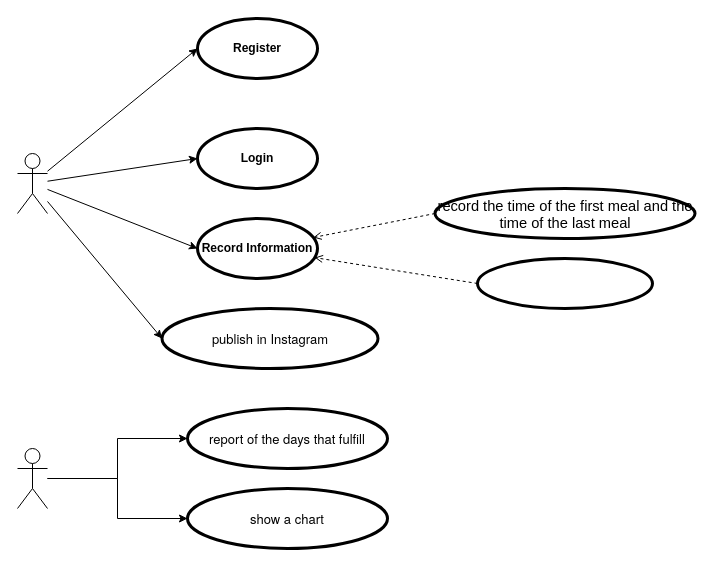
Image size: 714x567. Some labels were removed from this diagram. Here are the shapes that lost their labels. From the top down, the centre of each, then its label:
At (x=32, y=183): "User".
At (x=565, y=283): "record the weight".
At (x=32, y=478): "Time".
